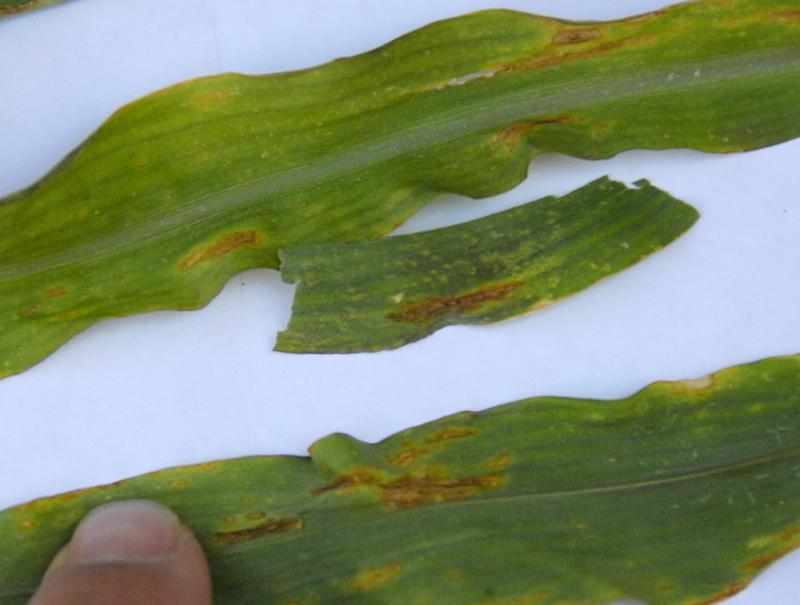Corn leaf blight: (1, 7, 796, 380), (222, 351, 799, 602)
